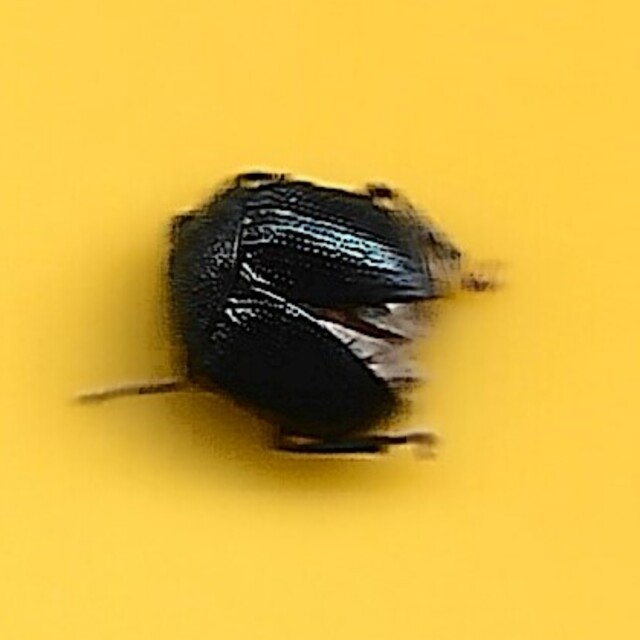Coleoptera: (153, 168, 487, 472)
